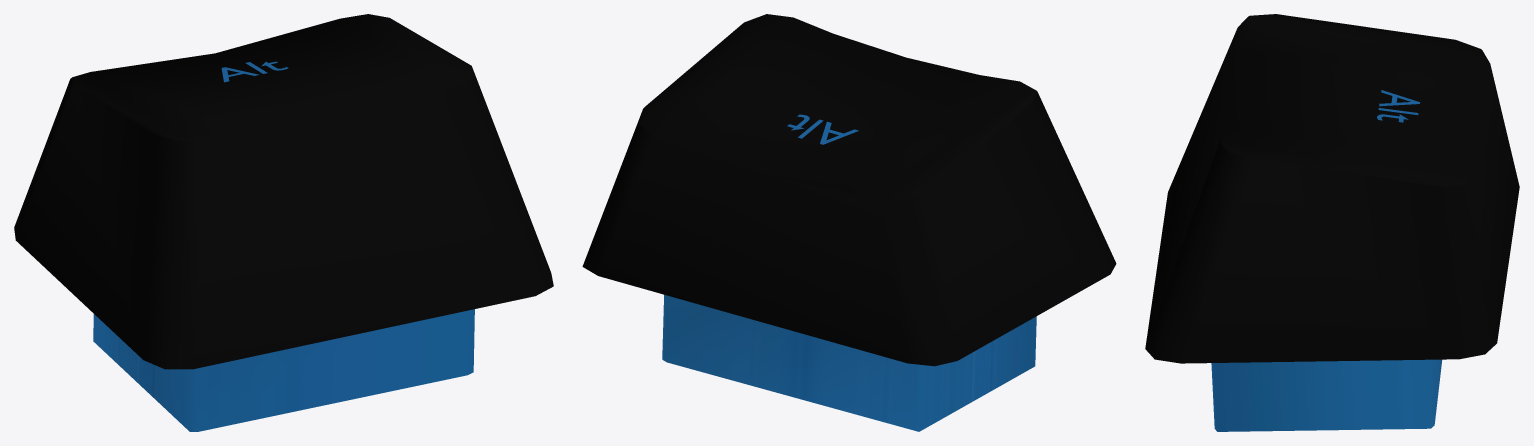
Rendered from rightalt-ppLA0YMU.glb.
The picture shows the model from 3 angles, left to right: view 1: azimuth 30°, elevation 25°; view 2: azimuth 150°, elevation 25°; view 3: azimuth 270°, elevation 25°; orthographic projection. The views are drawn at different scales.
Visible parts, largest first — view 1: StudyShelf_1077; view 2: StudyShelf_1077; view 3: StudyShelf_1077.
Part boxes in pixels (<box>): StudyShelf_1077: <box>14,14,553,431</box>; StudyShelf_1077: <box>582,14,1116,431</box>; StudyShelf_1077: <box>1145,14,1519,431</box>.
Bounding box in the file's own units: 5.45 × 3.7 × 4.41.
2 materials, 1 textured.
